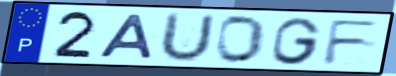2: (52, 10, 97, 60)
A: (96, 13, 156, 61)
F: (321, 19, 383, 67)
G: (270, 16, 324, 67)
O: (214, 14, 268, 65)
U: (156, 11, 218, 64)
